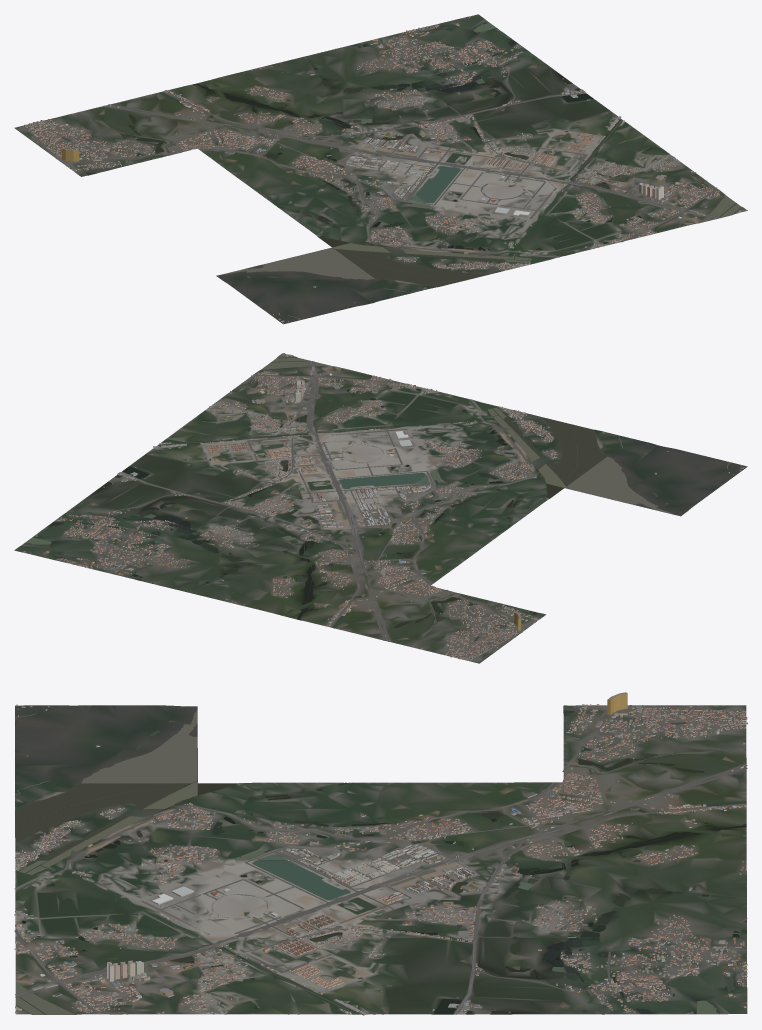
3 views of the same model, one above another, from view 1: azimuth 30°, elevation 25°; view 2: azimuth 150°, elevation 25°; view 3: azimuth 270°, elevation 25° (orthographic). The views are drawn at different scales.
Visible parts, largest first — view 1: ground, buildings, water, roads; view 2: ground, buildings, water, roads; view 3: ground, buildings, water, roads.
Boxes of the visible parts, x1,y1,x2,y2 form: ground: (14, 14, 747, 324); buildings: (24, 16, 746, 323); water: (61, 20, 741, 286); roads: (31, 32, 721, 319); ground: (14, 353, 747, 663); buildings: (23, 353, 747, 660); water: (22, 358, 674, 641); roads: (87, 360, 729, 650); ground: (15, 705, 747, 1014); buildings: (14, 692, 747, 1015); water: (15, 710, 746, 1014); roads: (14, 705, 747, 1014).
Size of the model in its own units: 5627 by 138 by 5626.
